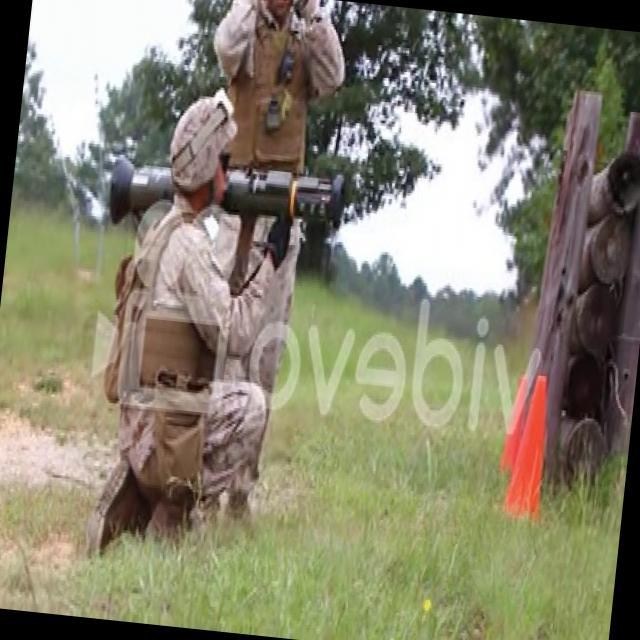rocket: (108, 147, 344, 248)
